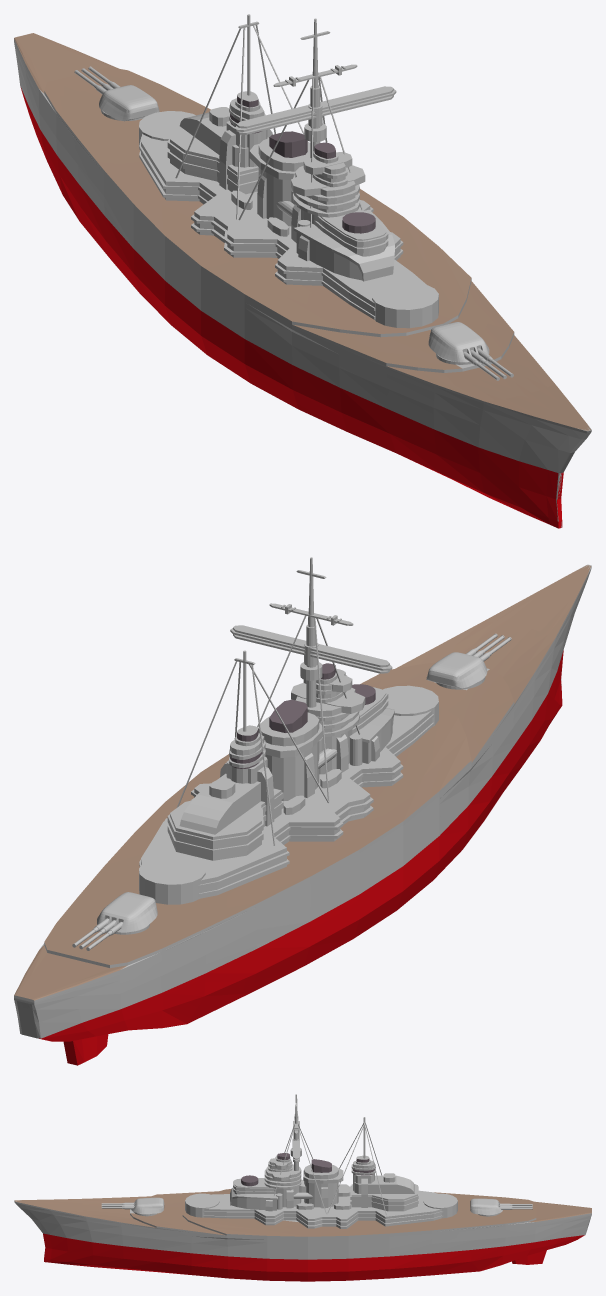
The model's file is big_classic2.fbx.
3 views of the same model, one above another, from view 1: azimuth 30°, elevation 25°; view 2: azimuth 150°, elevation 25°; view 3: azimuth 270°, elevation 25° (orthographic). The views are drawn at different scales.
Parts seen in each view (by area): view 1: big_classic2; view 2: big_classic2; view 3: big_classic2.
Boxes of the visible parts, box(x1,y1,x2,y2) form: big_classic2: box(14, 14, 591, 528); big_classic2: box(14, 557, 591, 1065); big_classic2: box(14, 1094, 591, 1281).
Bounding box in the file's own units: 1469 × 2304 × 7121.
